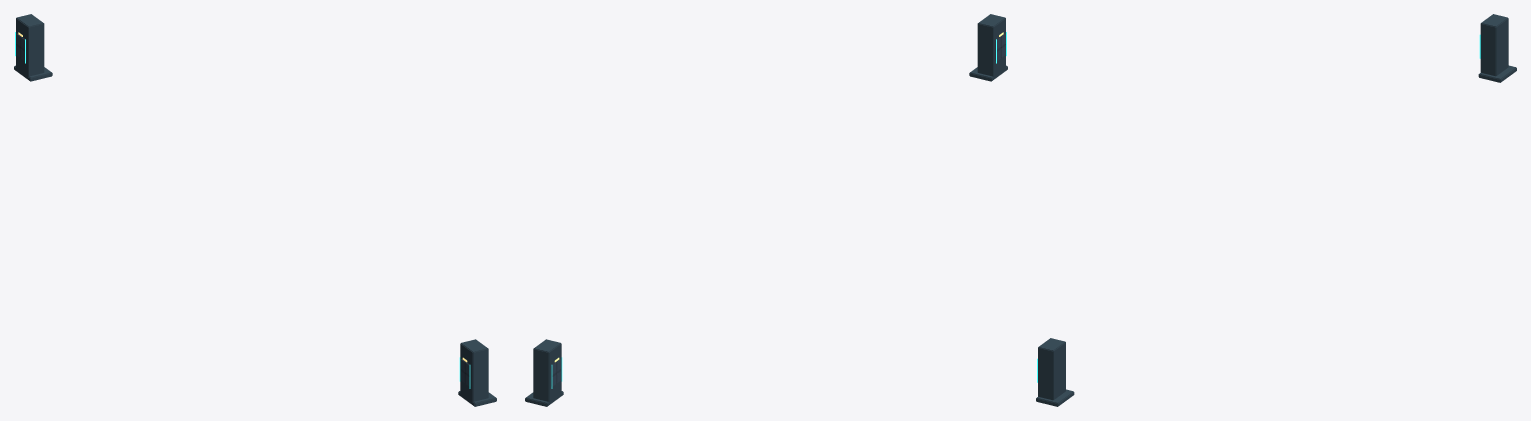
The model's file is upper-anchor-mounts.glb.
The picture shows the model from 3 angles, left to right: view 1: azimuth 30°, elevation 25°; view 2: azimuth 150°, elevation 25°; view 3: azimuth 330°, elevation 25°; orthographic projection.
Visible parts, largest first — view 1: upper-anchor-mounts; view 2: upper-anchor-mounts; view 3: upper-anchor-mounts.
Part boxes in pixels (x1=…): upper-anchor-mounts: x1=14, y1=14, x2=496, y2=406; upper-anchor-mounts: x1=525, y1=14, x2=1007, y2=406; upper-anchor-mounts: x1=1036, y1=14, x2=1516, y2=406.
Bounding box in the file's own units: 0.757 × 1.6 × 24.9.
4 materials, 1 textured.
